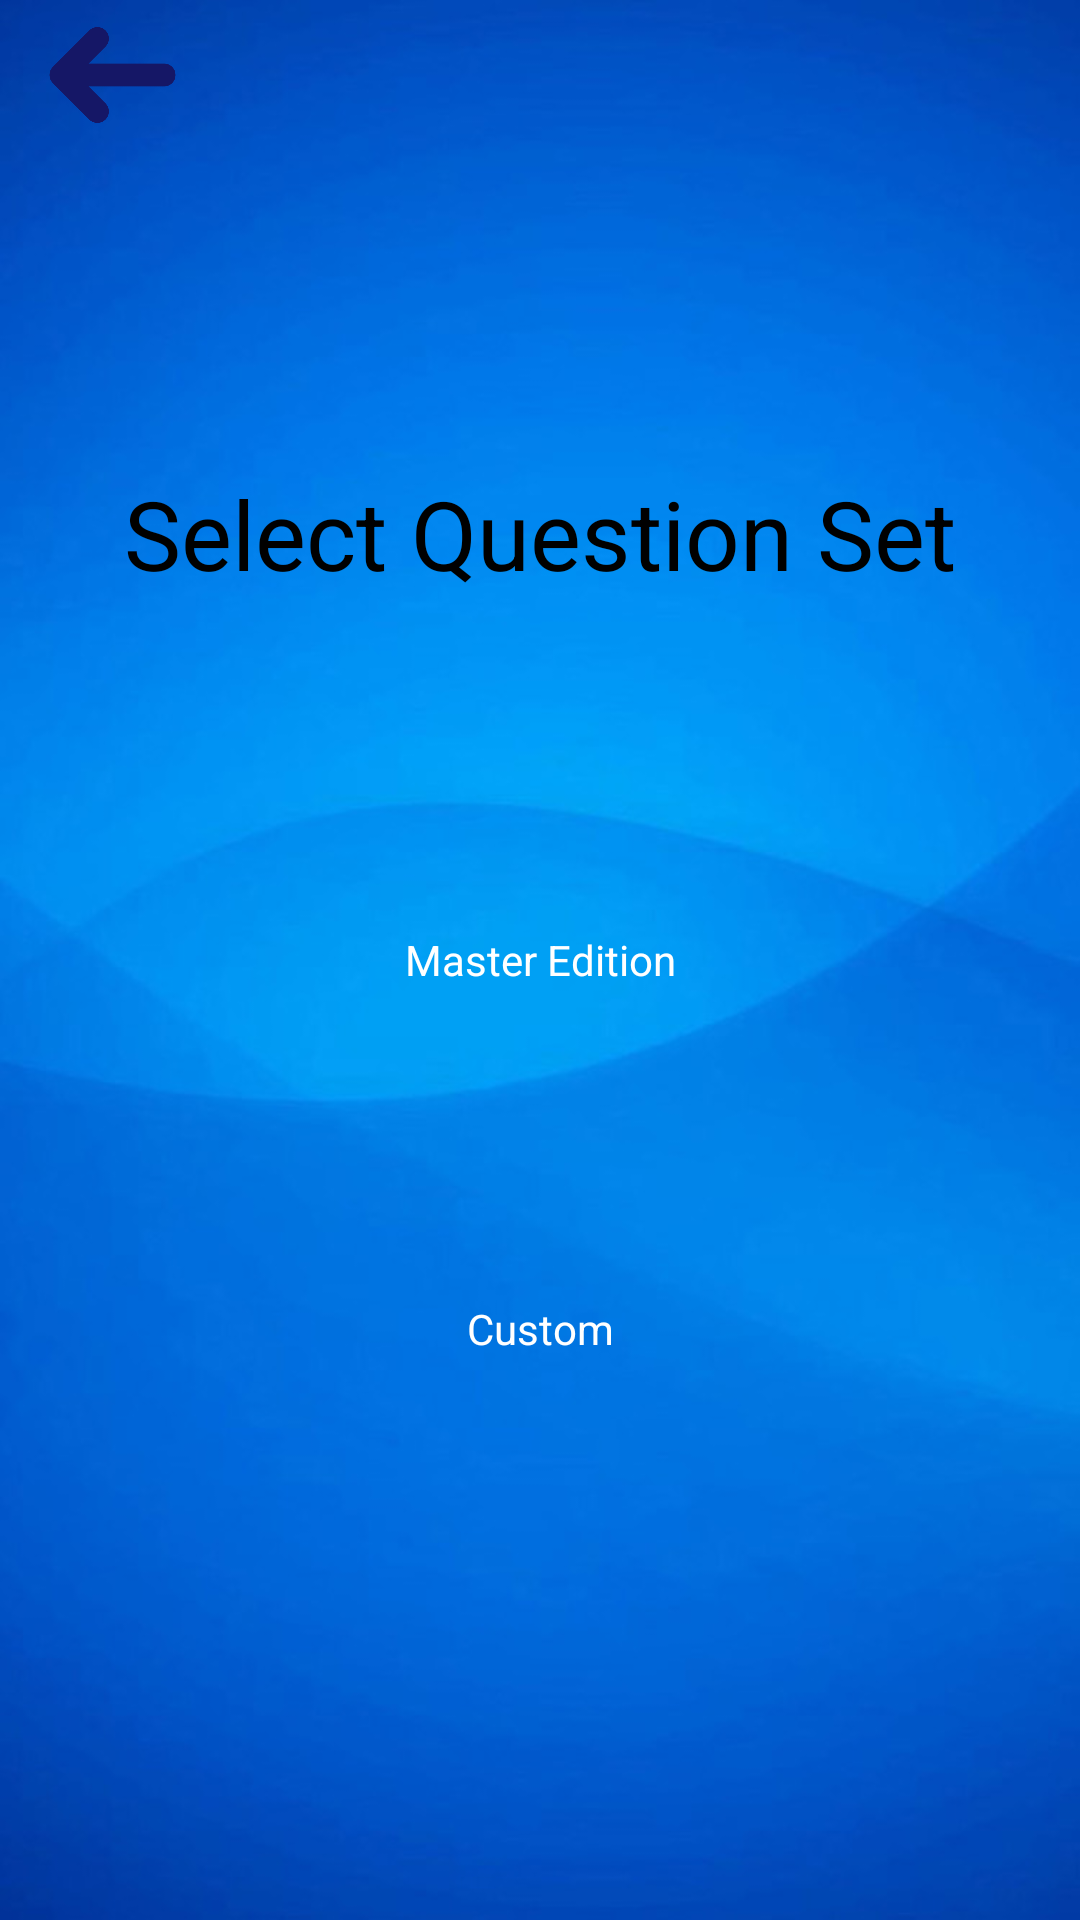

Where to tap for icons on this 1080w x 1920h app screen, as (x,y):
backbut: (88,61)
